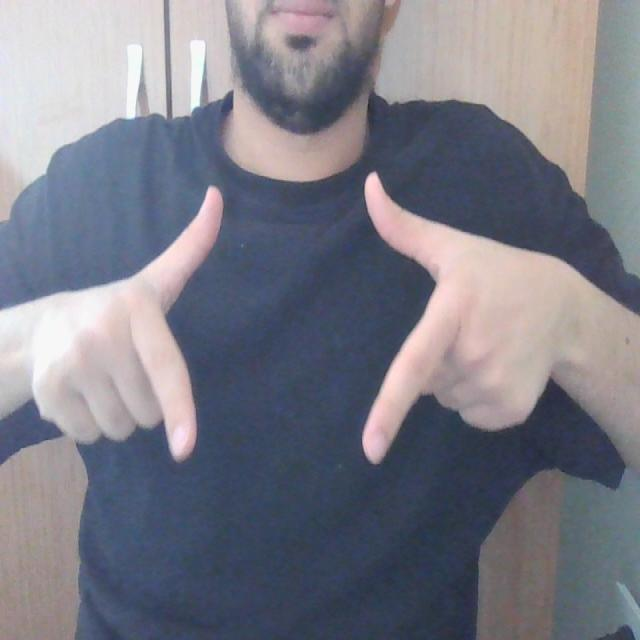Nerede: (127, 164, 475, 471)
